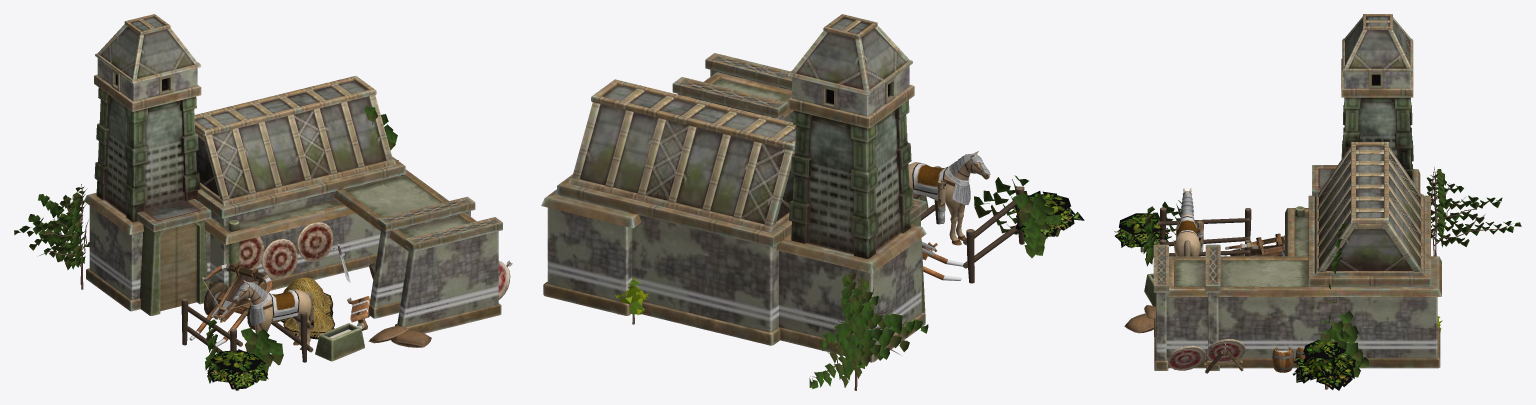
Rendered from 42-counterbarracks.glb.
The picture shows the model from 3 angles, left to right: view 1: azimuth 30°, elevation 25°; view 2: azimuth 150°, elevation 25°; view 3: azimuth 270°, elevation 25°; orthographic projection. The views are drawn at different scales.
Size of the model in its own units: 10.9 by 7.98 by 11.24.
Materials: 19 (17 with a texture image).
